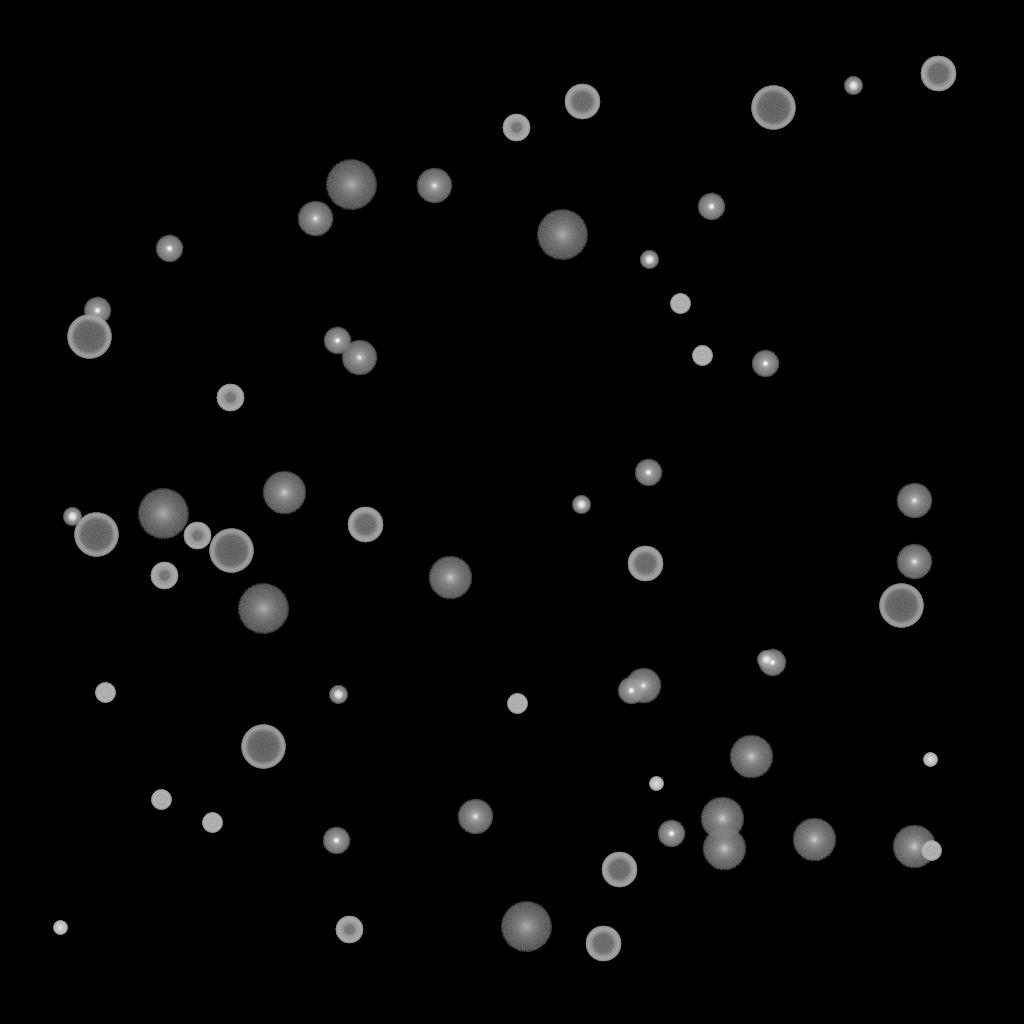depth:-10: (634, 459, 662, 487), (617, 677, 645, 705), (657, 820, 685, 848), (323, 327, 351, 355), (322, 827, 350, 855), (758, 649, 786, 677), (155, 235, 183, 263), (697, 193, 725, 221), (751, 350, 779, 378), (83, 297, 111, 325)
depth:-20: (329, 686, 347, 704), (640, 251, 658, 269), (757, 651, 775, 669), (572, 496, 590, 514), (63, 508, 81, 526), (844, 77, 862, 95)
depth:-30: (649, 777, 663, 791), (923, 753, 937, 767), (53, 921, 67, 935)
depth:-40: (670, 294, 690, 314), (921, 841, 941, 861), (151, 790, 171, 810), (95, 683, 115, 703), (202, 813, 222, 833), (507, 694, 527, 714), (692, 346, 712, 366)
depth:-50: (183, 522, 211, 550), (216, 384, 244, 412), (150, 562, 178, 590), (502, 114, 530, 142), (335, 916, 363, 944)
depth:-60: (920, 56, 956, 92), (585, 926, 621, 962), (347, 507, 383, 543), (627, 546, 663, 582), (601, 852, 637, 888), (564, 84, 600, 120)
depth:-70: (74, 513, 118, 557), (209, 529, 253, 573), (241, 725, 285, 769), (67, 315, 111, 359), (751, 86, 795, 130), (879, 584, 923, 628)
depth:0: (416, 168, 452, 204), (896, 544, 932, 580), (457, 799, 493, 835), (625, 668, 661, 704), (341, 340, 377, 376), (896, 483, 932, 519), (297, 201, 333, 237)
depth:10: (700, 797, 744, 841), (892, 825, 936, 869), (729, 735, 773, 779), (428, 556, 472, 600), (792, 818, 836, 862), (702, 827, 746, 871), (262, 471, 306, 515)
depth:20: (536, 210, 588, 260), (325, 160, 377, 210), (500, 902, 552, 952), (137, 489, 189, 539), (237, 584, 289, 634)
